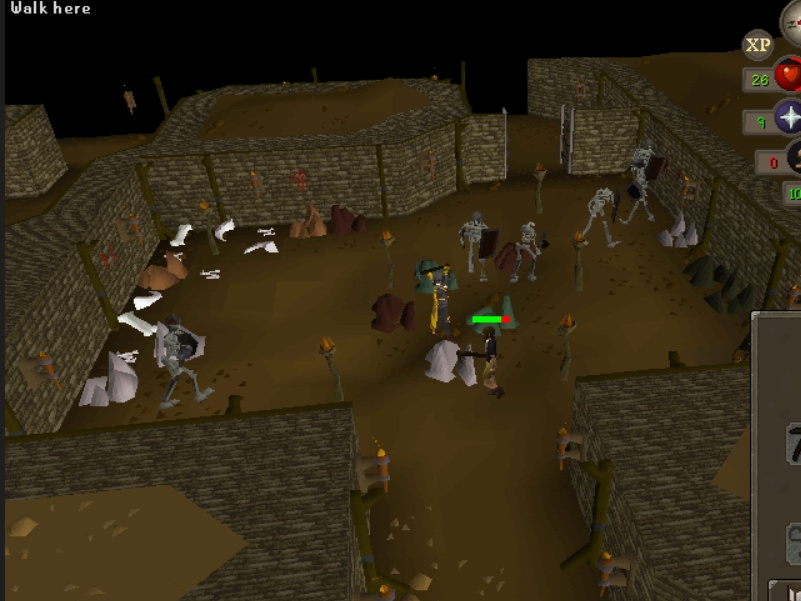adamant: (464, 288, 525, 341), (409, 255, 462, 296)
coal: (682, 244, 734, 294), (706, 267, 758, 317)
copper: (131, 244, 191, 295), (287, 197, 331, 244)
iron: (366, 288, 424, 334), (325, 200, 376, 241), (492, 235, 543, 275)
silver: (70, 343, 142, 417), (419, 334, 481, 393), (148, 317, 209, 371)
tin: (657, 205, 706, 253)
